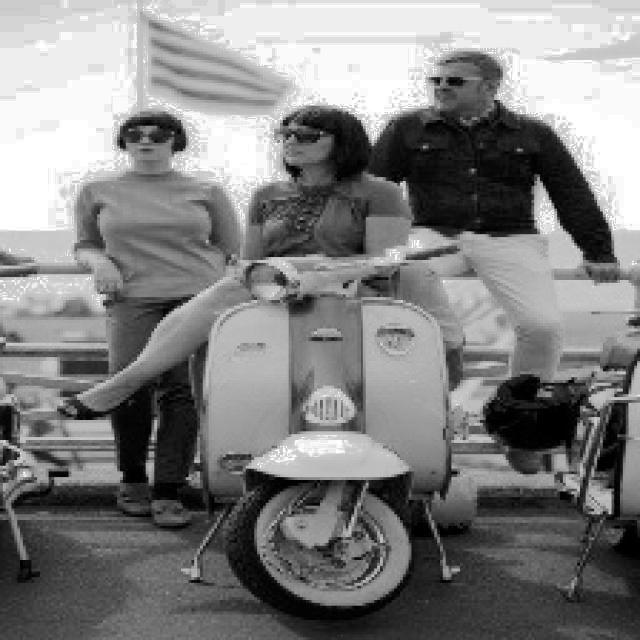Bike: (197, 256, 482, 614)
